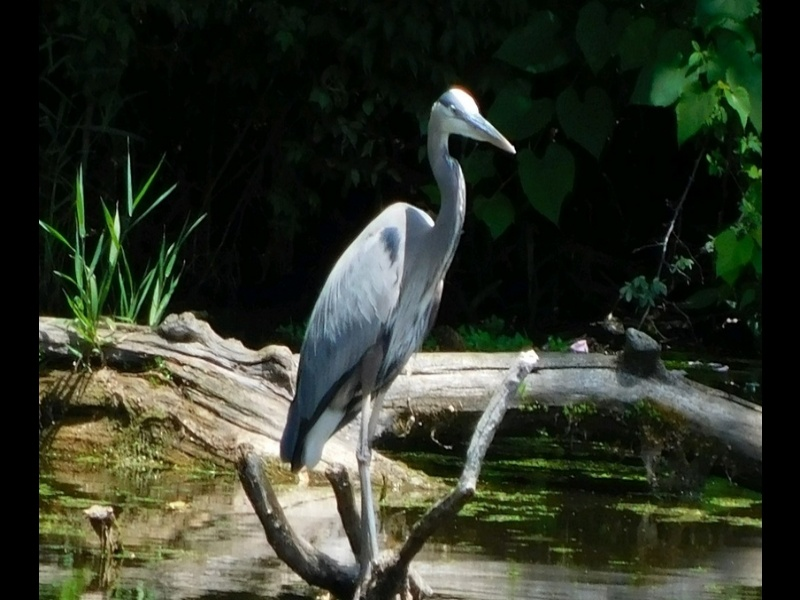heron: (279, 79, 519, 594)
